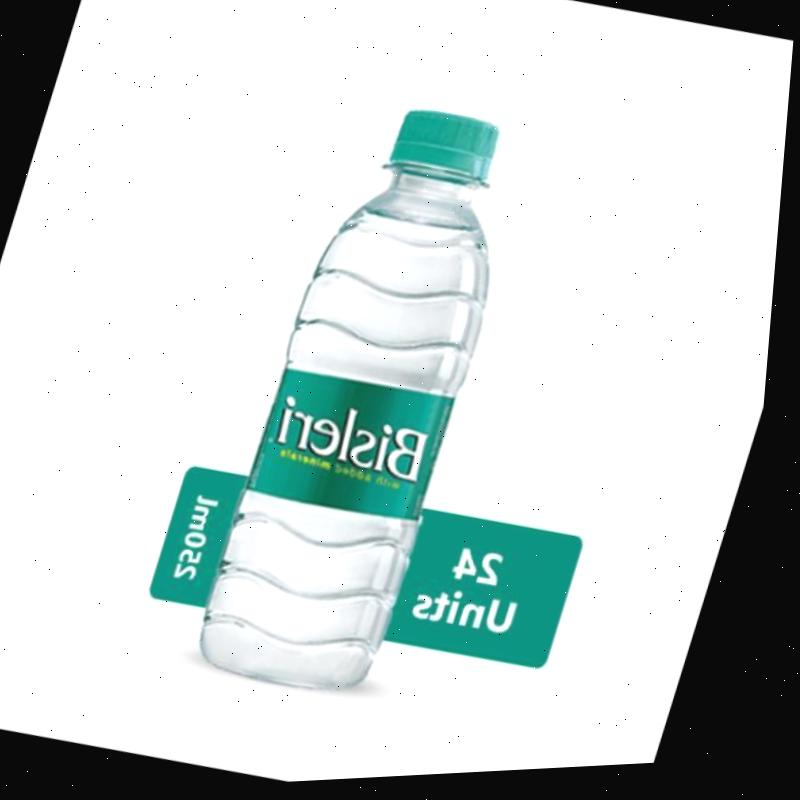botella: (197, 95, 552, 710)
